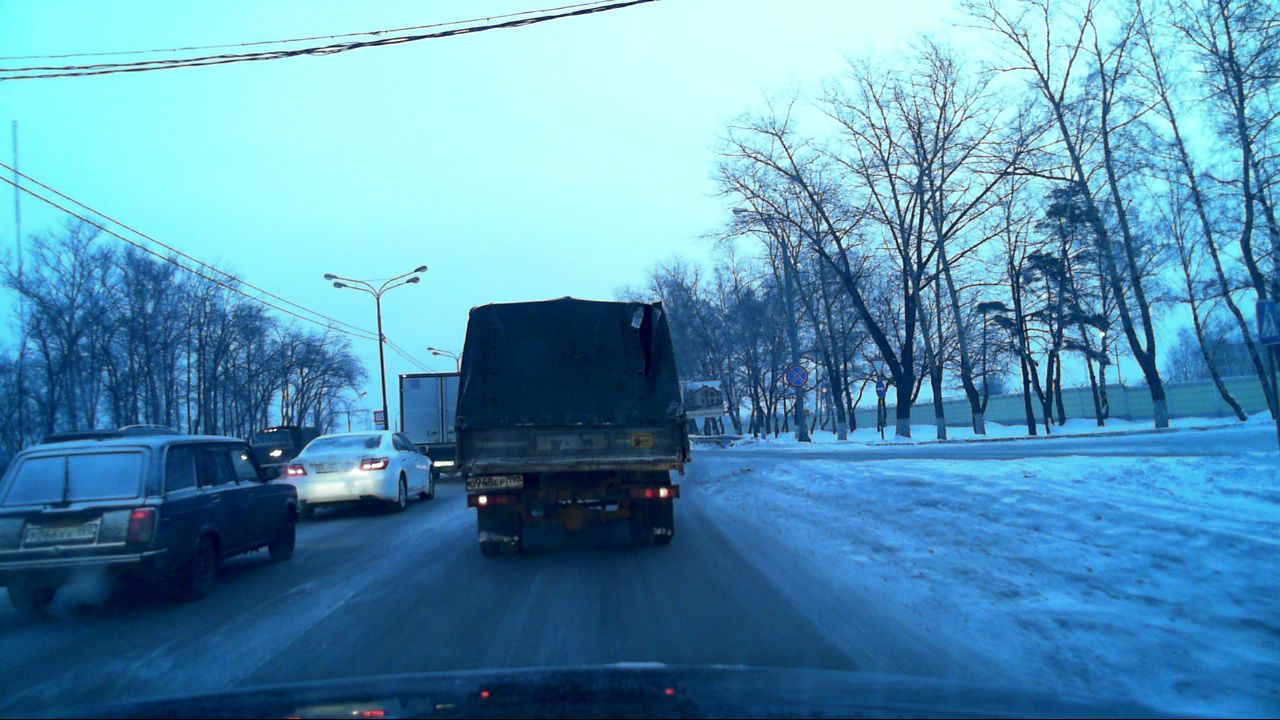No Parking: (786, 364, 808, 387)
